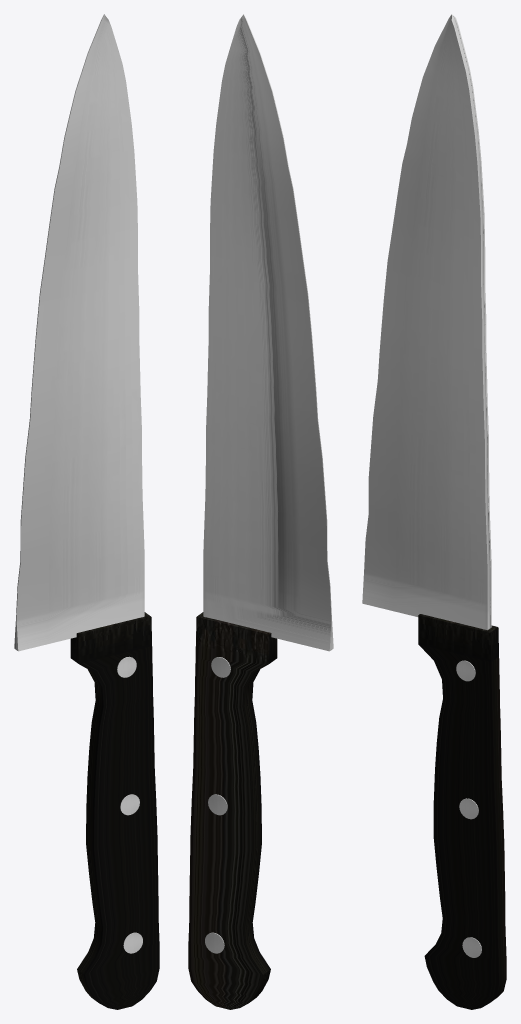
File: Cuchillo_unity.fbx
3 views of the same model, side by side, from view 1: azimuth 30°, elevation 25°; view 2: azimuth 150°, elevation 25°; view 3: azimuth 330°, elevation 25° (orthographic).
Visible parts, largest first — view 1: corte, base; view 2: corte, base; view 3: corte, base.
Part boxes in pixels (x1,y1,x2,y2): corte: (14,14,144,651); base: (70,612,159,1009); corte: (203,14,333,651); base: (188,612,277,1009); corte: (362,14,491,630); base: (418,614,506,1009).
Bounding box in the file's own units: 2.26 × 15.42 × 0.2426.
